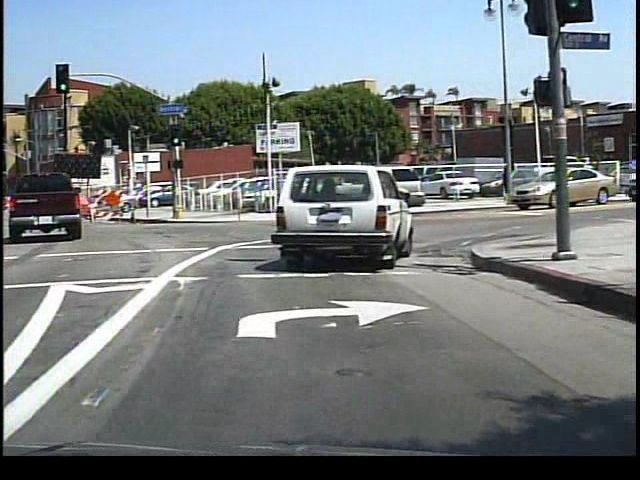person: (497, 160, 517, 203)
